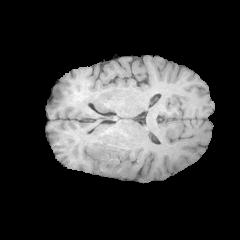glioma: (90, 140, 133, 177)
